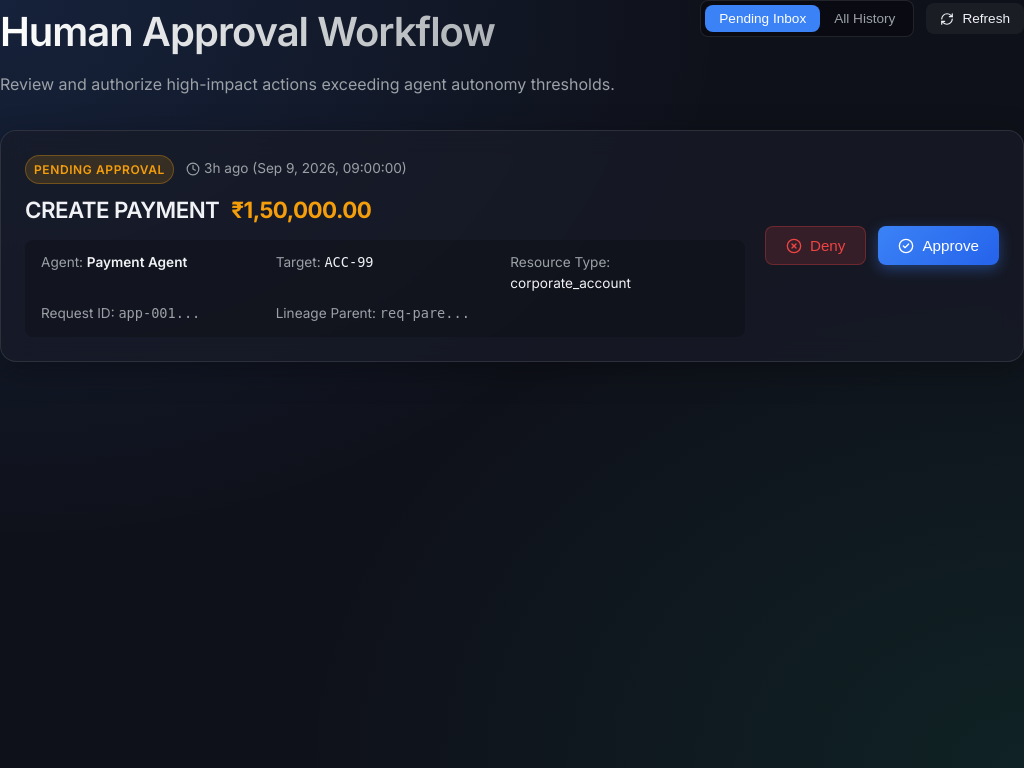
it: Approvals Component › handles expired requests clearly
Click the button "Deny" at (816, 246), box [765,226,866,265]
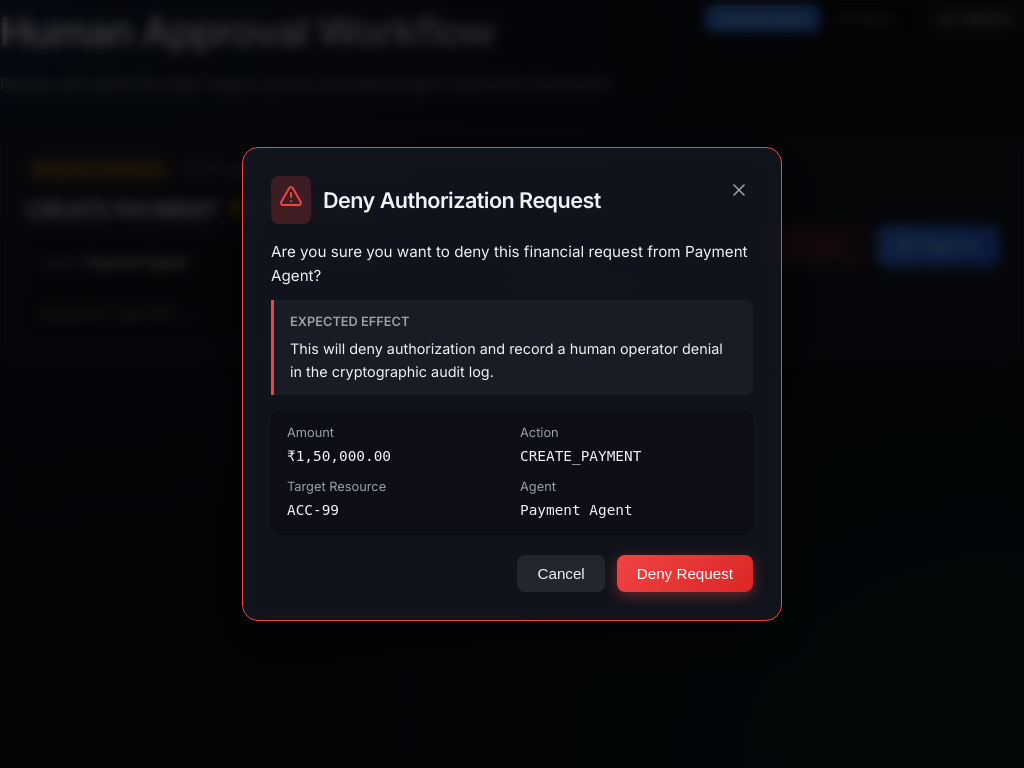
Click the button "Deny Request" at (685, 574), box [617,555,753,592]
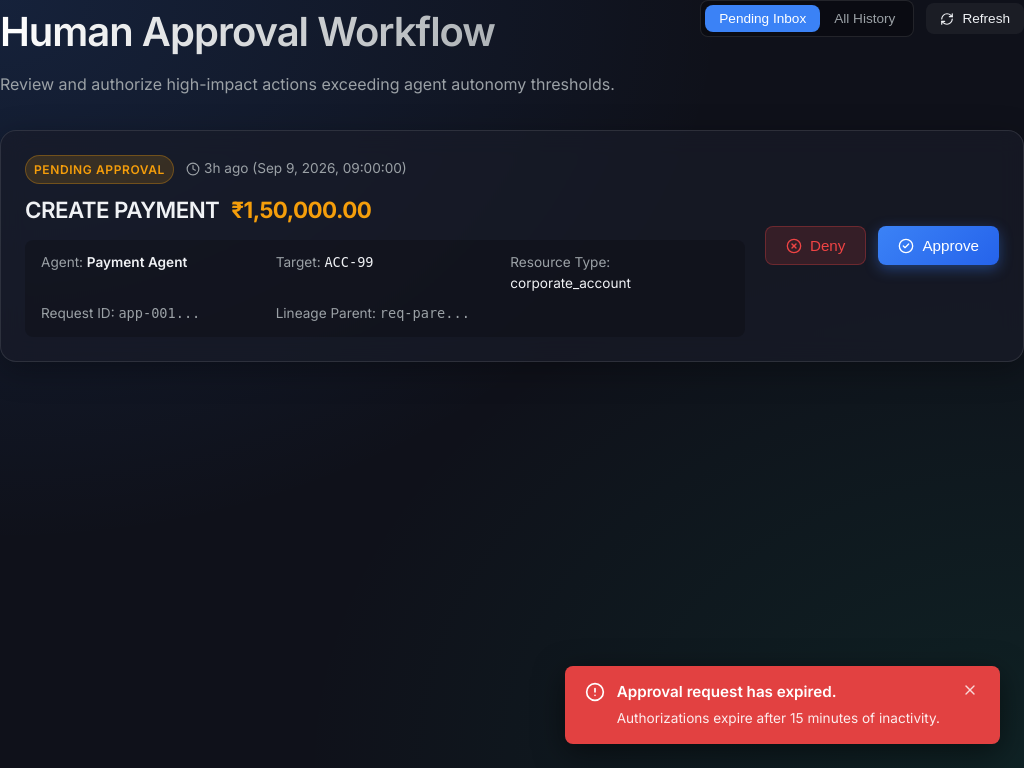
Expected: the text "Approval request has expired." is shown, [617,682,837,701]
